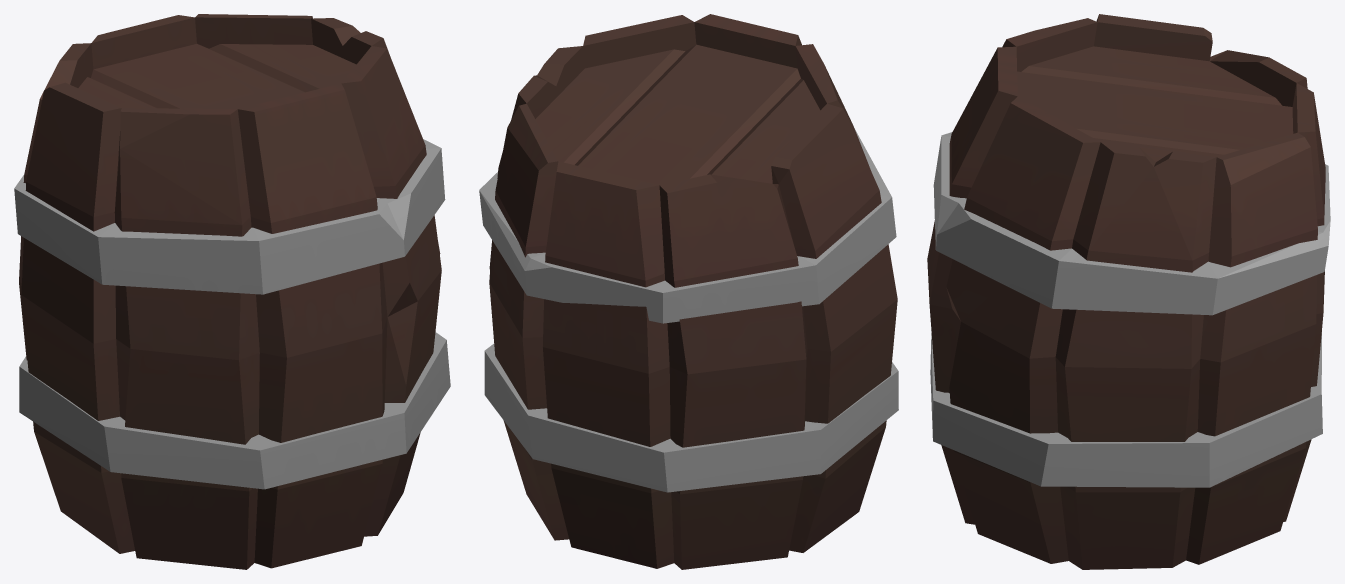
Rendered from Obstacle_SpidersCave.fbx.
3 renders of one model, left to right at view 1: azimuth 30°, elevation 25°; view 2: azimuth 150°, elevation 25°; view 3: azimuth 270°, elevation 25°, orthographic. The views are drawn at different scales.
Visible parts, largest first — view 1: Obstacle_SpidersCave; view 2: Obstacle_SpidersCave; view 3: Obstacle_SpidersCave.
Part boxes in pixels (x1,y1,x2,y2): Obstacle_SpidersCave: (14, 14, 450, 569); Obstacle_SpidersCave: (479, 14, 898, 569); Obstacle_SpidersCave: (927, 14, 1330, 569).
Bounding box in the file's own units: 89.58 × 107 × 90.76.
1 material, 1 textured.
